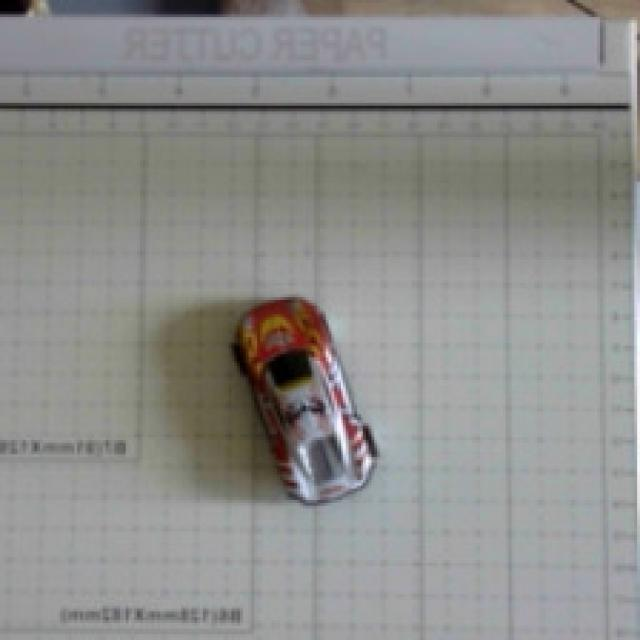Red Car: (204, 271, 433, 539)
